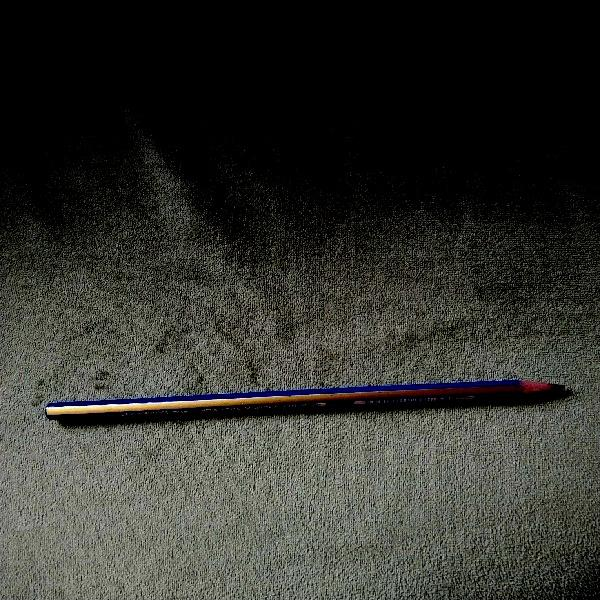pencil: (45, 372, 578, 428)
